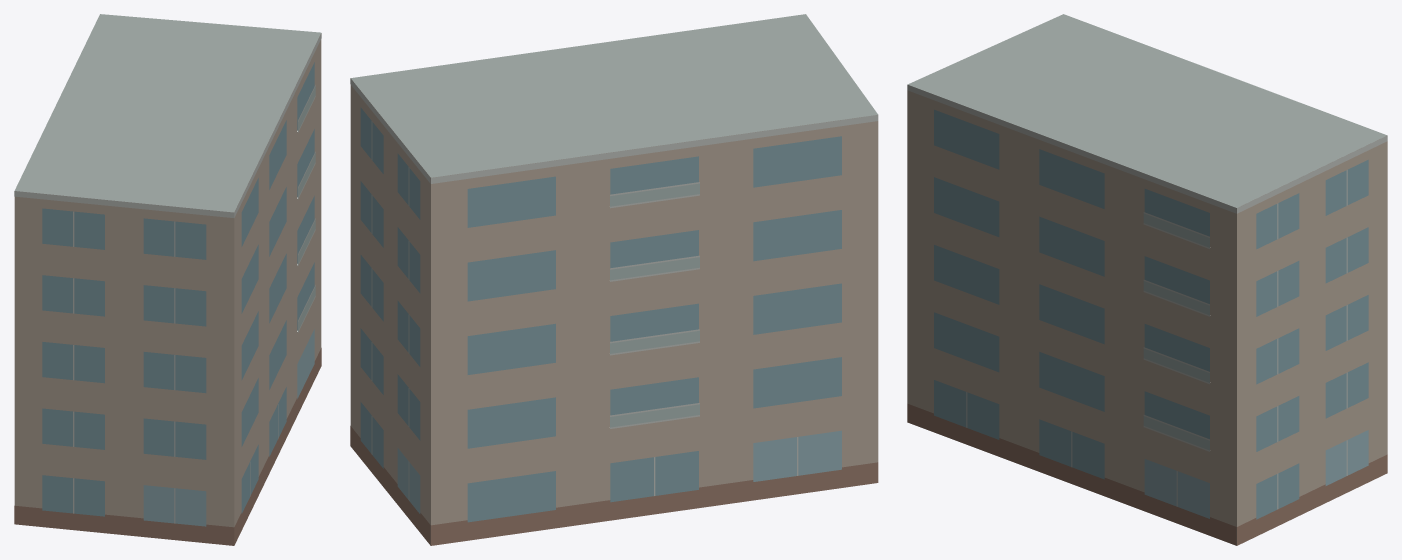
File: survey-upis-32977485.glb
3 views of the same model, side by side, from view 1: azimuth 30°, elevation 25°; view 2: azimuth 150°, elevation 25°; view 3: azimuth 270°, elevation 25° (orthographic). The views are drawn at different scales.
Visible parts, largest first — view 1: survey-upis-32977485.tmp; view 2: survey-upis-32977485.tmp; view 3: survey-upis-32977485.tmp.
Part boxes in pixels (box(x1,y1,x2,y2)): survey-upis-32977485.tmp: box(14, 14, 321, 545); survey-upis-32977485.tmp: box(350, 14, 878, 545); survey-upis-32977485.tmp: box(907, 14, 1387, 545).
Bounding box in the file's own units: 17.63 × 14.3 × 18.43.
